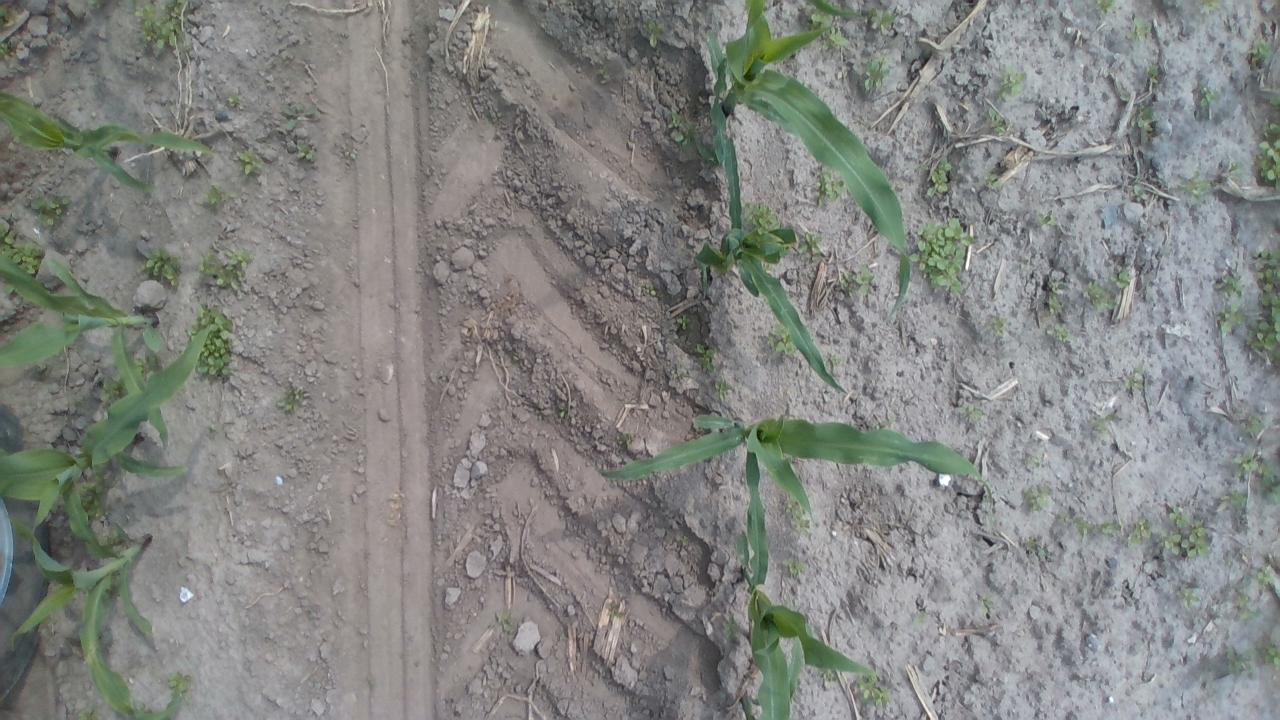Maize: (600, 414, 1004, 590), (696, 0, 910, 321), (688, 28, 862, 392), (0, 312, 219, 538), (726, 442, 890, 720), (2, 474, 185, 720), (0, 244, 171, 454), (0, 86, 219, 194)
Weeds: (910, 217, 974, 296), (1248, 246, 1280, 371), (129, 0, 193, 53), (190, 300, 231, 380), (1231, 450, 1280, 506), (197, 244, 256, 290), (0, 220, 45, 279), (805, 5, 854, 54), (1166, 520, 1212, 559), (138, 248, 182, 286), (856, 672, 890, 720), (1255, 124, 1280, 188), (28, 193, 71, 230), (924, 156, 959, 200), (76, 480, 108, 525), (994, 63, 1030, 102), (786, 495, 814, 541), (1080, 277, 1114, 313), (860, 54, 891, 93), (1214, 301, 1248, 336), (842, 266, 878, 299), (814, 170, 844, 209), (278, 102, 318, 131), (276, 384, 308, 419), (666, 111, 696, 148), (1230, 582, 1258, 621), (1178, 172, 1211, 204), (764, 326, 799, 356), (860, 7, 900, 33), (1058, 510, 1095, 538), (234, 147, 266, 179), (166, 669, 194, 703), (1255, 636, 1280, 673), (795, 231, 825, 261), (1043, 285, 1068, 321), (1223, 649, 1254, 678), (748, 202, 778, 231), (97, 374, 124, 406), (1126, 16, 1154, 46), (200, 186, 232, 212), (642, 18, 668, 50), (1022, 487, 1052, 514), (693, 341, 718, 373), (1248, 36, 1274, 66), (1123, 365, 1151, 392), (1218, 269, 1244, 298), (1127, 516, 1152, 546), (1132, 108, 1156, 138), (294, 140, 320, 167), (986, 107, 1011, 135), (985, 314, 1011, 338), (1024, 536, 1050, 560), (1092, 410, 1114, 438), (1193, 82, 1216, 108), (1048, 322, 1074, 345), (959, 402, 986, 424), (781, 557, 808, 579), (1256, 562, 1276, 591), (134, 352, 158, 376), (1219, 160, 1245, 182), (498, 608, 518, 635), (1112, 267, 1134, 291), (712, 377, 733, 402), (1244, 411, 1264, 437), (1226, 490, 1250, 511), (1098, 521, 1124, 540), (1092, 0, 1122, 16), (723, 616, 740, 644), (1166, 507, 1188, 528), (604, 600, 627, 620), (1178, 586, 1200, 606), (616, 430, 638, 450), (978, 593, 996, 617), (1024, 451, 1044, 472), (1142, 62, 1162, 83), (1128, 183, 1148, 204), (342, 143, 362, 163), (982, 172, 1004, 190), (912, 609, 934, 626), (74, 706, 102, 719), (0, 37, 13, 65), (674, 312, 692, 332), (1266, 93, 1280, 117), (1198, 0, 1225, 12), (226, 92, 244, 110), (825, 352, 843, 370), (555, 402, 571, 422), (106, 574, 120, 596), (819, 665, 836, 683), (1040, 210, 1056, 229), (644, 280, 658, 298), (86, 0, 109, 10), (678, 534, 692, 550), (108, 532, 124, 546), (508, 348, 522, 364), (598, 66, 608, 80)
